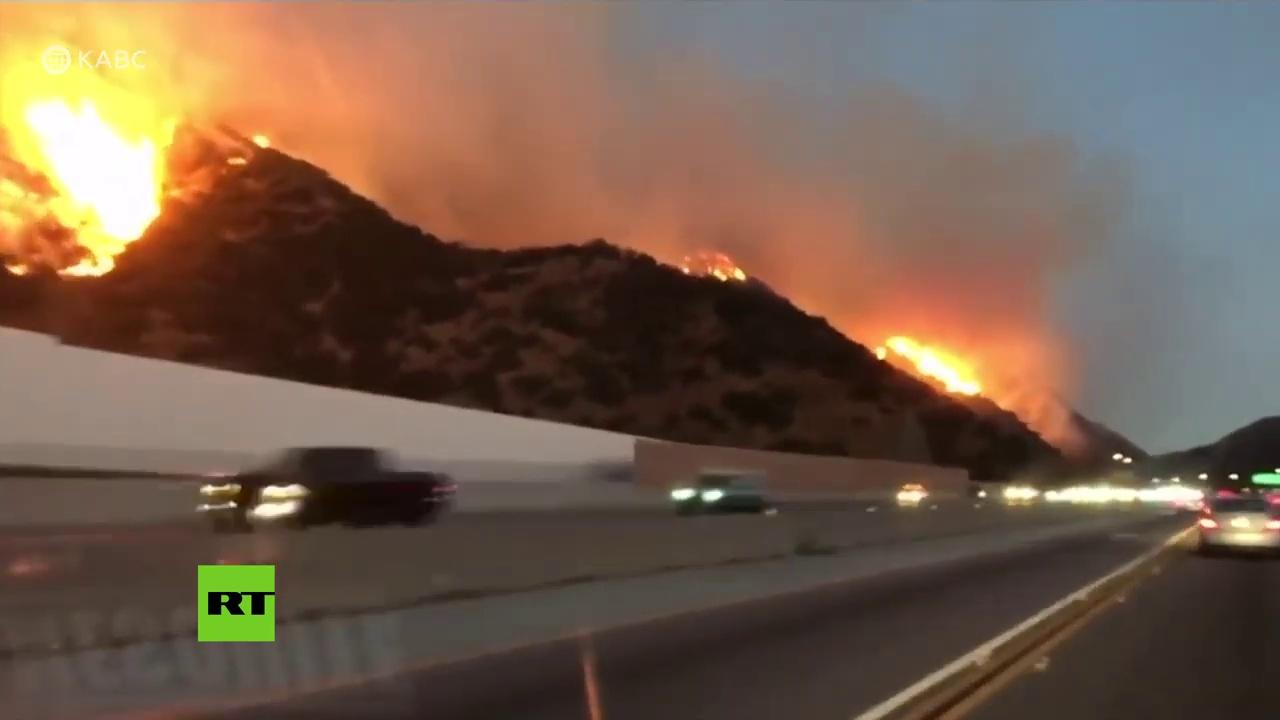Fire: (3, 59, 179, 279), (873, 333, 983, 399), (706, 250, 750, 285), (253, 132, 268, 151)
